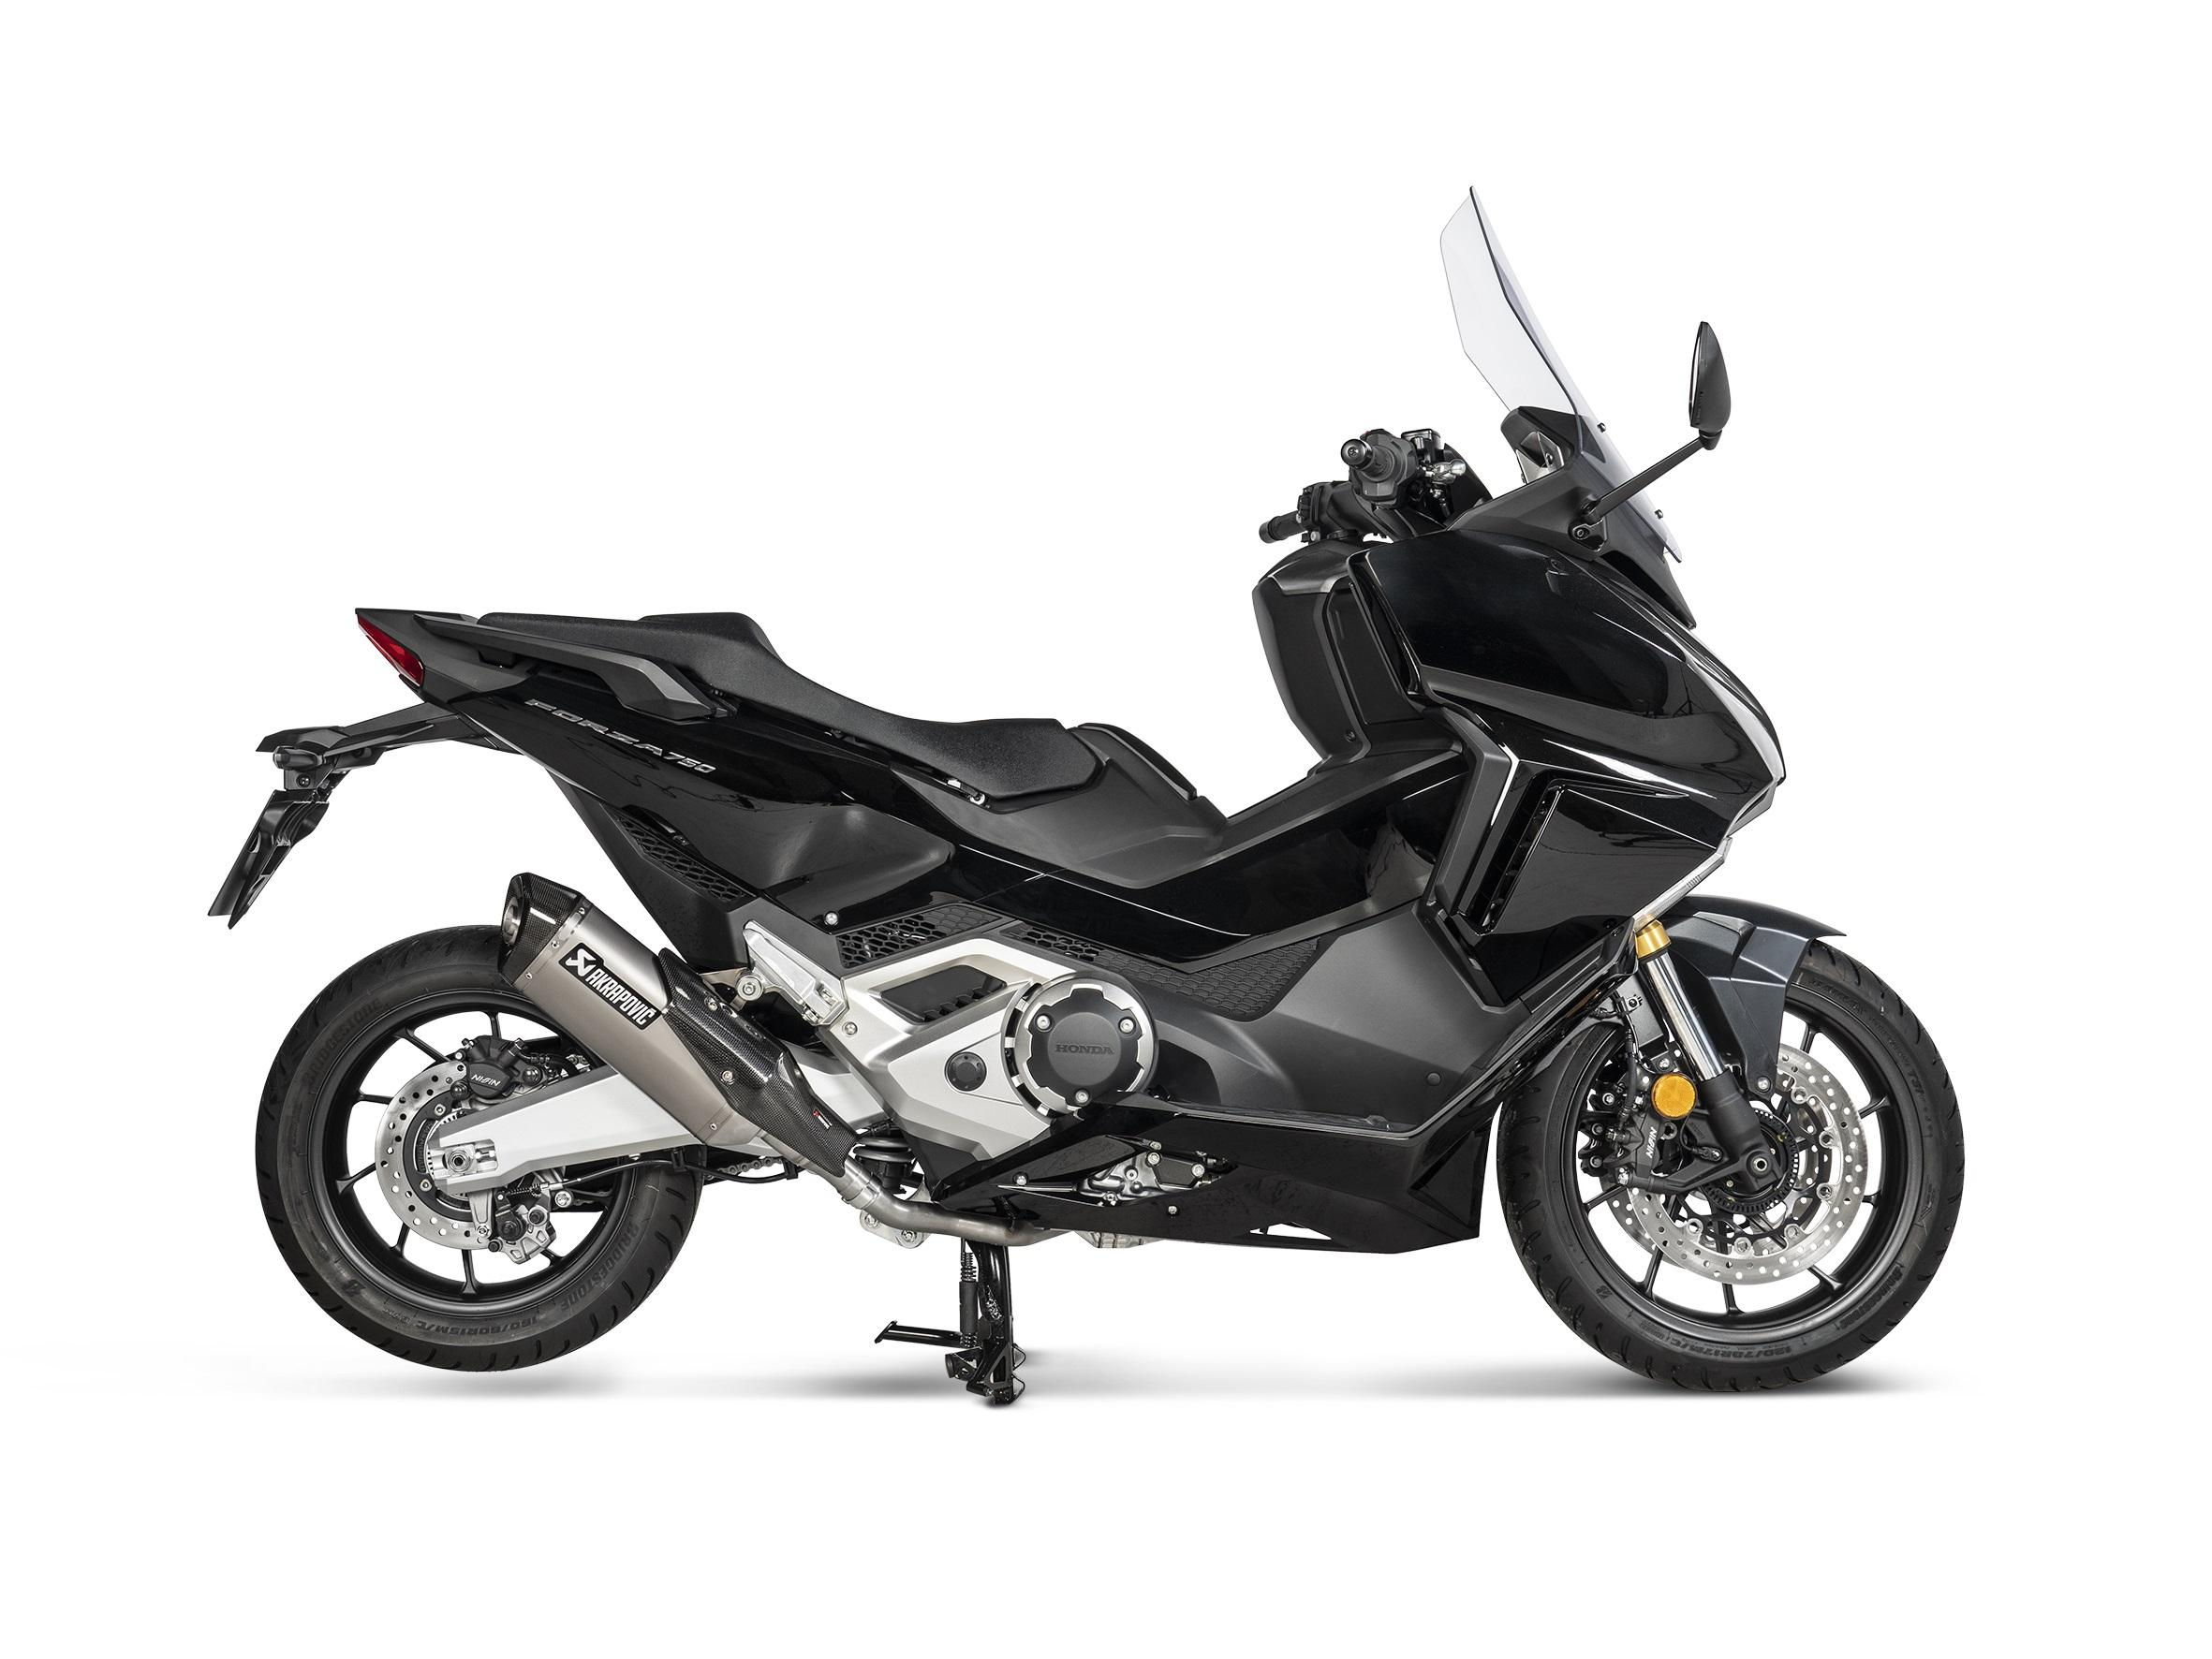engine-chasis: (814, 734, 1635, 1253), (873, 1237, 1027, 1405)
exhaust: (497, 871, 1070, 1249), (1074, 1230, 1163, 1249)
frontside: (1347, 185, 1848, 1195)
handlebar: (1569, 321, 1731, 552), (1259, 427, 1494, 545), (1501, 406, 1578, 484)
motorbike: (209, 192, 1966, 1405)
rearside: (207, 608, 1067, 1131), (427, 1065, 704, 1195)
seat: (476, 612, 1096, 798)
tank: (1067, 540, 1454, 861)
wheel: (1496, 939, 1964, 1392), (254, 924, 708, 1371), (549, 1147, 805, 1190), (1588, 990, 1658, 1126), (702, 1157, 783, 1180)
